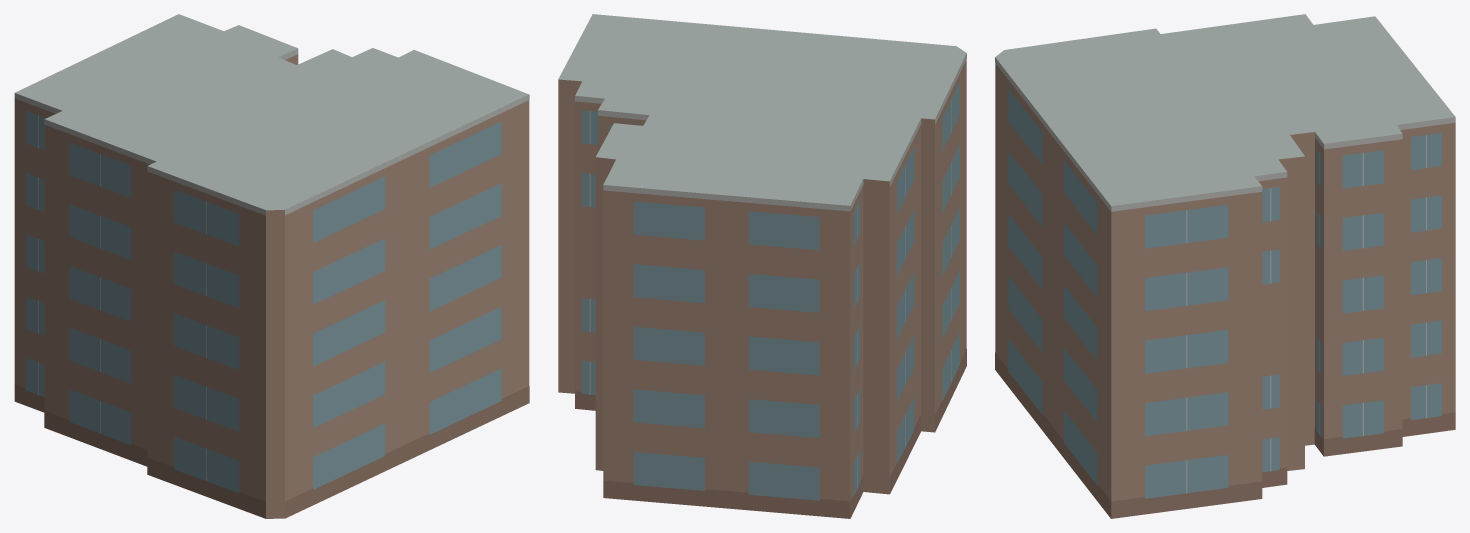
Rendered from survey-upis-32725069.glb.
3 renders of one model, left to right at view 1: azimuth 30°, elevation 25°; view 2: azimuth 150°, elevation 25°; view 3: azimuth 270°, elevation 25°, orthographic.
Visible parts, largest first — view 1: survey-upis-32725069.tmp; view 2: survey-upis-32725069.tmp; view 3: survey-upis-32725069.tmp.
Boxes of the visible parts, x1,y1,x2,y2 form: survey-upis-32725069.tmp: [14, 14, 529, 518]; survey-upis-32725069.tmp: [558, 14, 966, 518]; survey-upis-32725069.tmp: [995, 14, 1455, 518].
Size of the model in its own units: 18.21 by 13.8 by 18.43.
